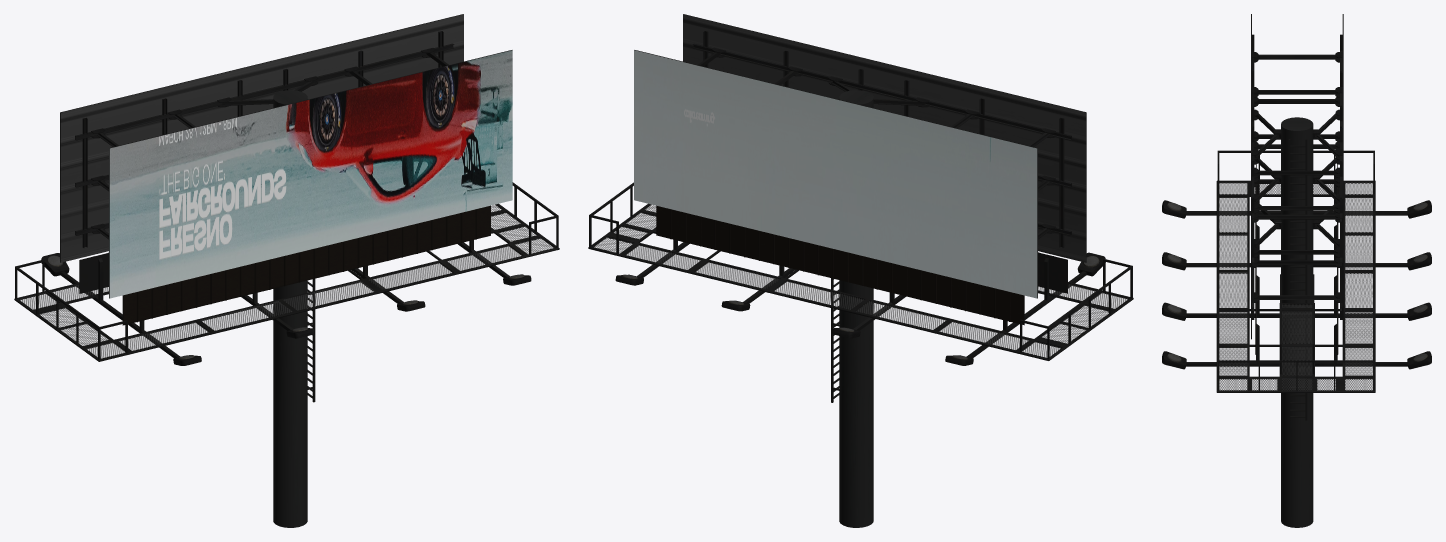
3 renders of one model, left to right at view 1: azimuth 30°, elevation 25°; view 2: azimuth 150°, elevation 25°; view 3: azimuth 270°, elevation 25°, orthographic. The views are drawn at different scales.
Parts seen in each view (by area): view 1: ADs, Main, Walkway; view 2: ADs, Main, Walkway; view 3: Main, Walkway.
Boxes of the visible parts, x1,y1,x2,y2 form: ADs: (109,50,512,298); Main: (14,14,559,527); Walkway: (20,205,554,358); ADs: (634,50,1037,298); Main: (588,14,1133,527); Walkway: (593,204,1127,357); Main: (1162,14,1431,527); Walkway: (1219,182,1372,390).
Size of the model in its own units: 8.15 by 7.43 by 4.4.
